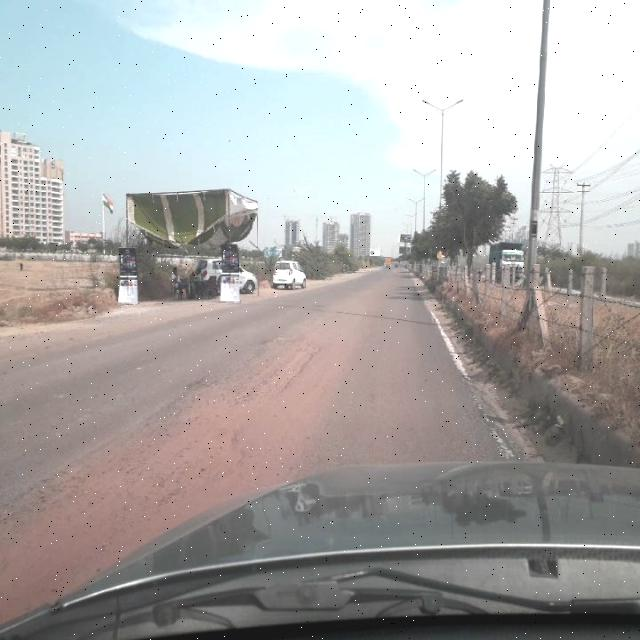D00: (12, 352, 242, 501)
D40: (13, 327, 336, 589)
D44: (449, 356, 507, 458)
